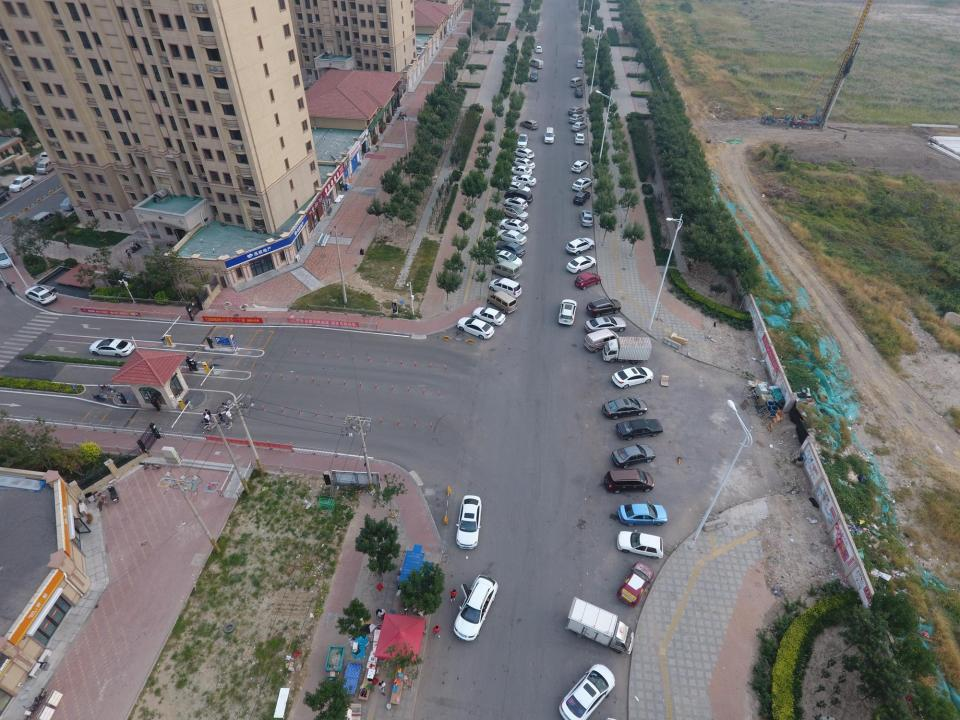car: (558, 663, 615, 720), (453, 575, 498, 642), (616, 560, 654, 608), (454, 494, 482, 550), (616, 528, 664, 560), (603, 467, 654, 493), (617, 500, 667, 524), (610, 442, 656, 468), (615, 418, 663, 441), (602, 395, 648, 419), (612, 366, 654, 388), (457, 316, 495, 340), (88, 338, 135, 357), (24, 285, 58, 307), (584, 316, 627, 333), (488, 277, 522, 298), (586, 298, 622, 317), (472, 306, 506, 326), (491, 249, 522, 268), (566, 255, 596, 274), (60, 193, 92, 210), (494, 240, 525, 257), (8, 173, 35, 192), (566, 237, 594, 255), (496, 229, 527, 245), (558, 299, 577, 325), (498, 218, 528, 234), (575, 272, 601, 290), (502, 204, 528, 222), (503, 190, 533, 205), (503, 181, 531, 195), (510, 174, 536, 187), (503, 197, 529, 210), (510, 157, 535, 169), (572, 190, 590, 206), (572, 177, 592, 191), (570, 160, 590, 174), (507, 165, 532, 176), (513, 148, 534, 160), (581, 209, 594, 227), (519, 119, 538, 131), (0, 189, 11, 206), (544, 127, 555, 144), (571, 121, 587, 132), (567, 114, 584, 124), (567, 106, 584, 116), (574, 132, 585, 145), (518, 133, 528, 147), (530, 69, 538, 82), (575, 88, 584, 99), (576, 60, 584, 68), (534, 46, 542, 52)
truck: (565, 596, 635, 654), (602, 336, 652, 366)
van: (583, 328, 620, 353), (36, 155, 72, 175), (488, 290, 518, 314), (27, 211, 59, 230), (491, 261, 521, 280), (0, 244, 14, 268), (40, 151, 68, 163), (530, 58, 544, 69), (570, 77, 583, 88)
